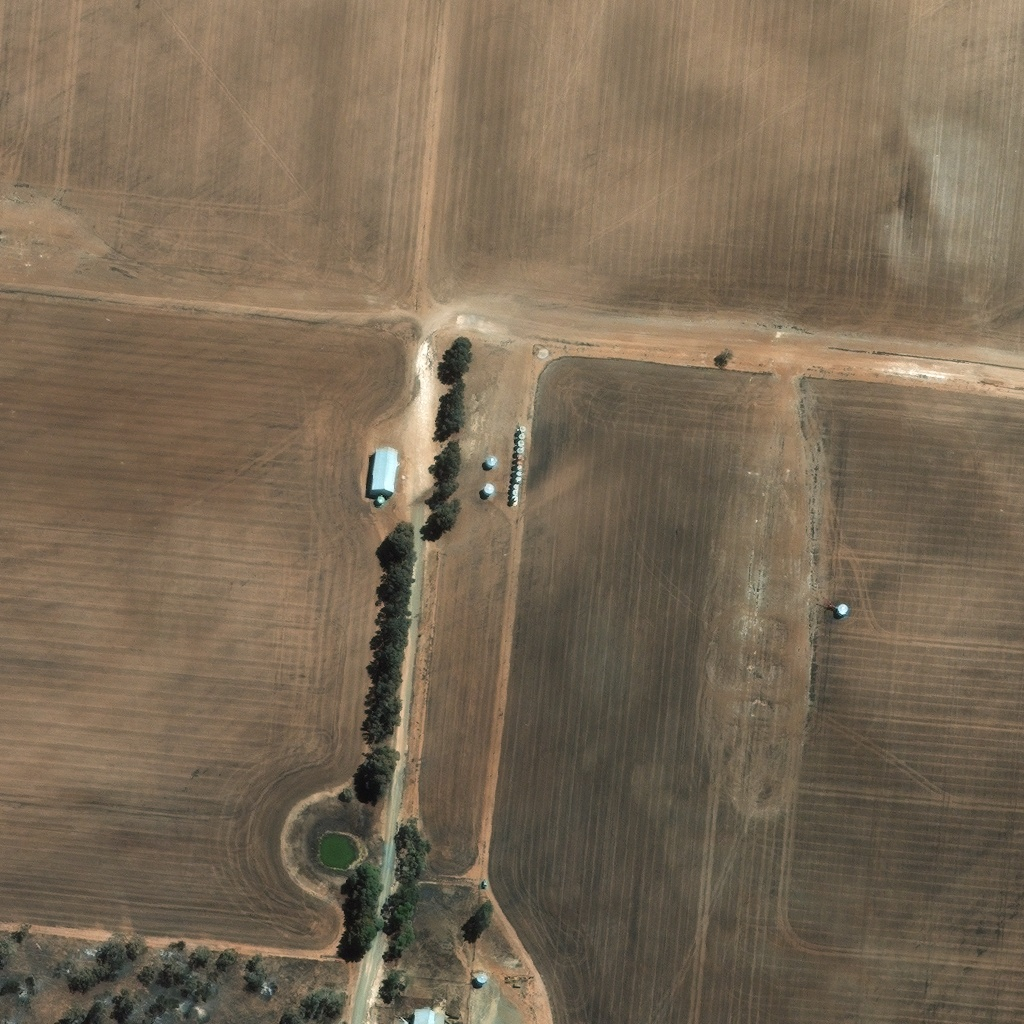0 no-damage: (510, 425, 527, 503), (370, 450, 397, 494), (473, 458, 484, 473), (376, 495, 385, 503)
4 un-classified: (414, 1007, 444, 1023), (740, 538, 752, 549), (726, 658, 737, 667), (735, 578, 745, 587), (747, 484, 756, 494), (750, 451, 759, 460), (731, 618, 741, 626), (404, 1016, 410, 1021)
